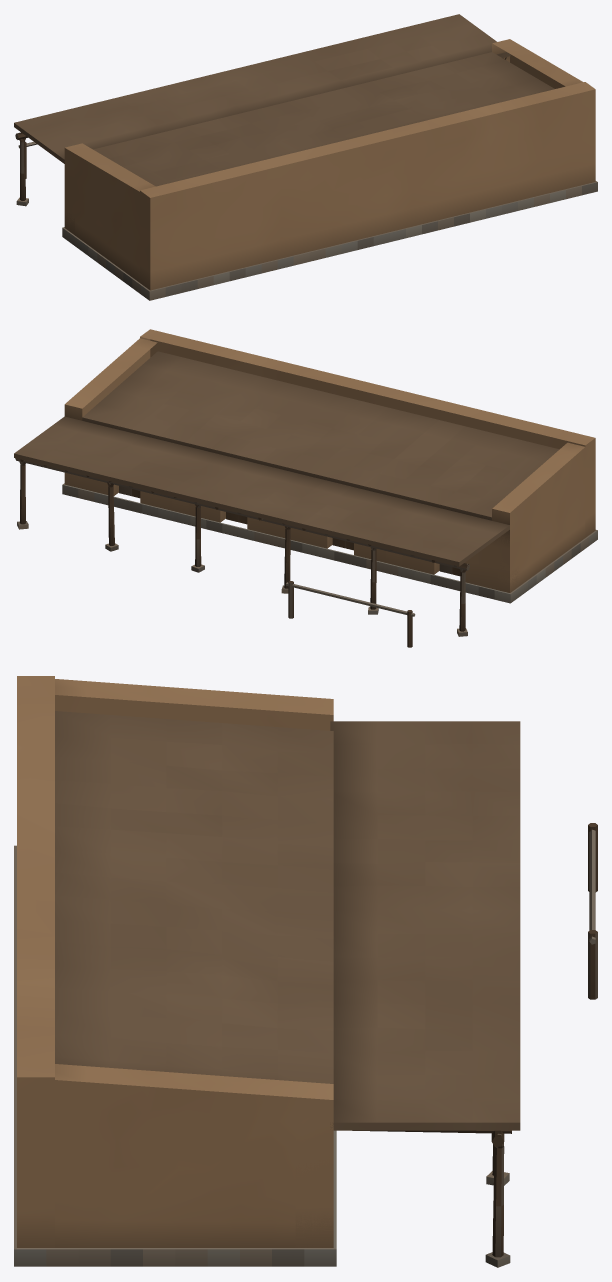
Rendered from casa_posta_a.glb.
3 views of the same model, one above another, from view 1: azimuth 30°, elevation 25°; view 2: azimuth 150°, elevation 25°; view 3: azimuth 270°, elevation 25° (orthographic). The views are drawn at different scales.
Visible parts, largest first — view 1: casa_posta_a; view 2: casa_posta_a; view 3: casa_posta_a.
Part boxes in pixels (x1,y1,x2,y2): casa_posta_a: (14, 14, 597, 300); casa_posta_a: (14, 329, 597, 647); casa_posta_a: (14, 676, 597, 1267).
Bounding box in the file's own units: 15.22 × 3.28 × 9.23.
